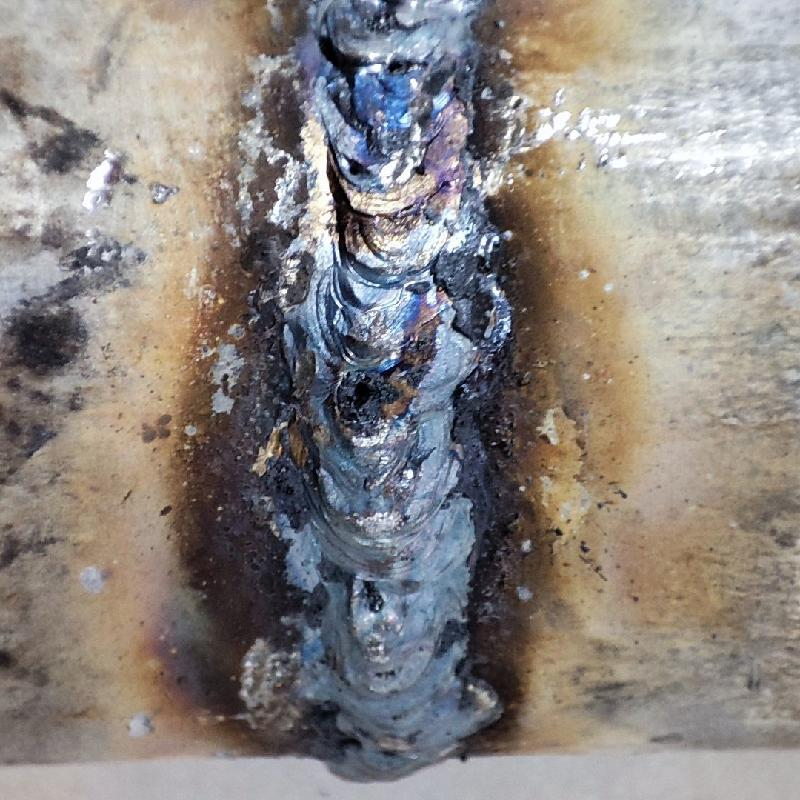Surface_pores: (330, 369, 400, 428), (336, 151, 377, 190), (372, 50, 416, 84), (404, 150, 439, 186)
